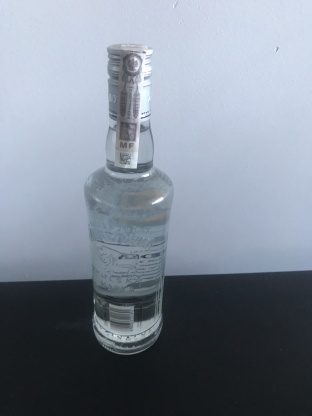nakretka: (102, 35, 156, 126)
